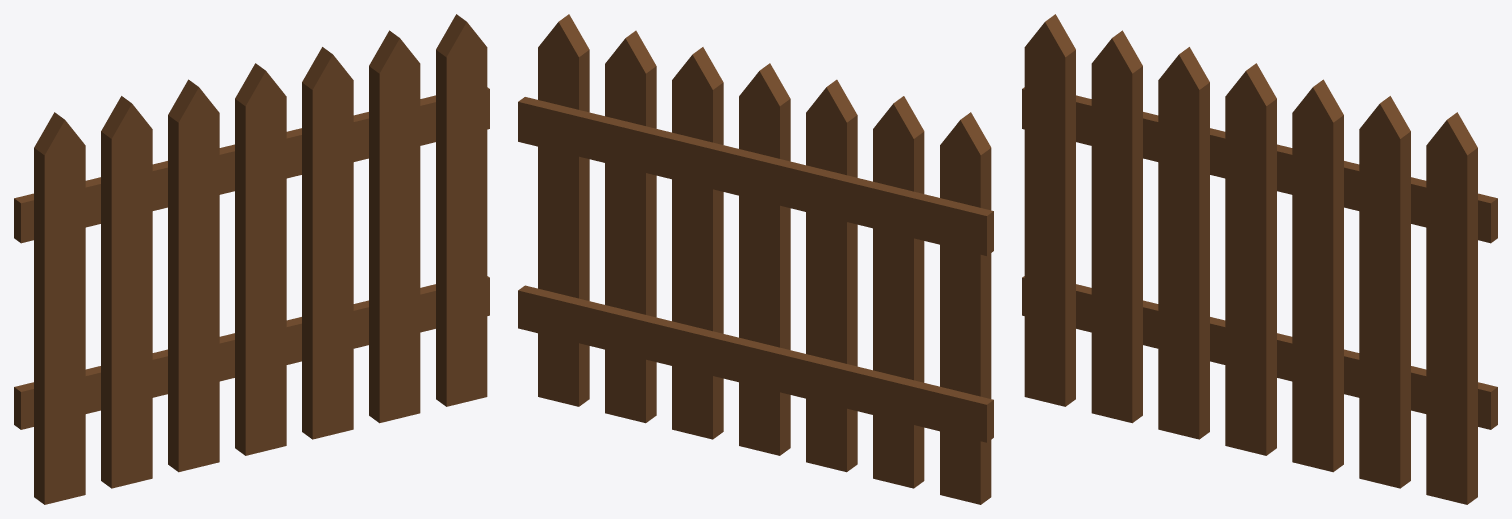
Rendered from pagar 1 .fbx.
3 views of the same model, side by side, from view 1: azimuth 30°, elevation 25°; view 2: azimuth 150°, elevation 25°; view 3: azimuth 330°, elevation 25° (orthographic).
Parts seen in each view (by area): view 1: pagar dengan array; view 2: pagar dengan array; view 3: pagar dengan array.
Boxes of the visible parts, box(x1,y1,x2,y2) form: pagar dengan array: box(14, 14, 489, 504); pagar dengan array: box(518, 14, 993, 504); pagar dengan array: box(1022, 14, 1497, 504).
Size of the model in its own units: 136 by 106 by 8.83.
